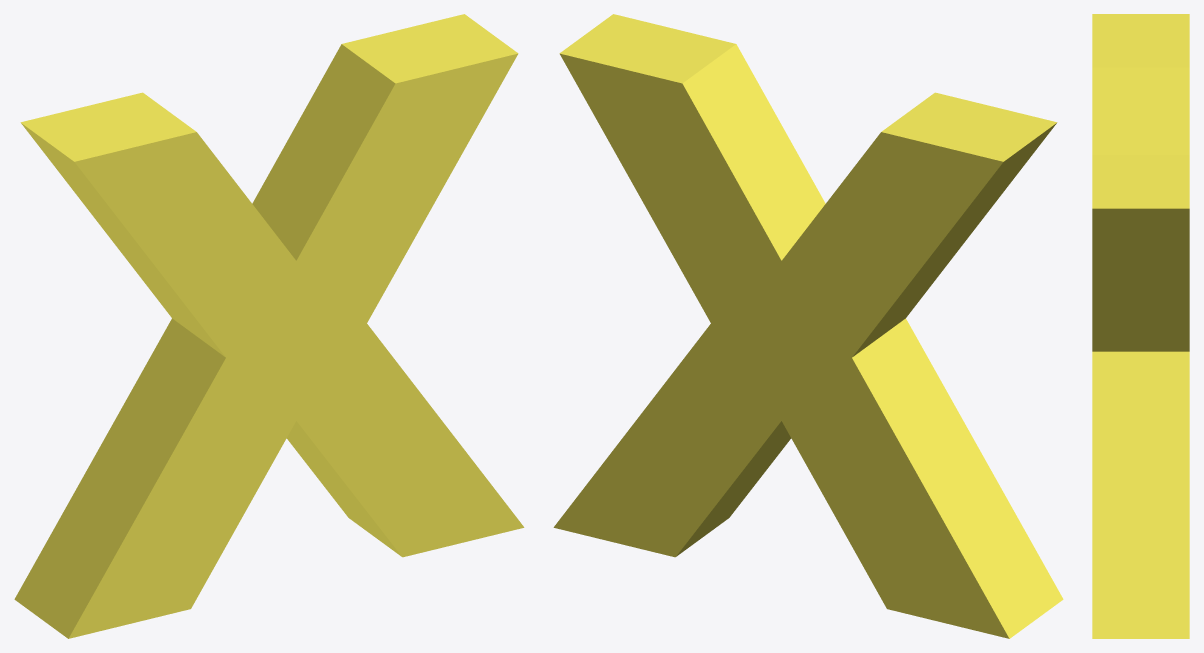
Rendered from huruf_besar_x.glb.
3 views of the same model, side by side, from view 1: azimuth 30°, elevation 25°; view 2: azimuth 150°, elevation 25°; view 3: azimuth 270°, elevation 25° (orthographic). The views are drawn at different scales.
Parts seen in each view (by area): view 1: geometry_0; view 2: geometry_0; view 3: geometry_0.
Part boxes in pixels (x1=…): geometry_0: x1=14, y1=14, x2=524, y2=638; geometry_0: x1=553, y1=14, x2=1063, y2=638; geometry_0: x1=1092, y1=14, x2=1189, y2=638.
Size of the model in its own units: 7.32 by 7.29 by 1.5.
